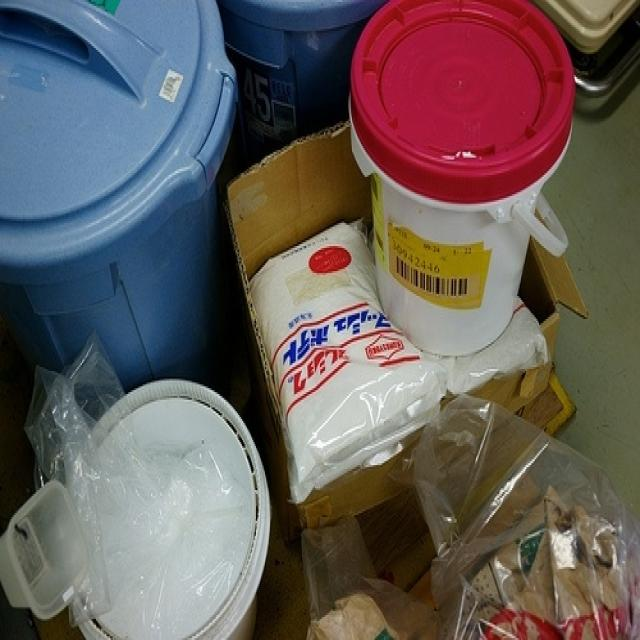Plastics: (0, 0, 260, 371), (340, 0, 598, 345), (10, 367, 290, 640)
